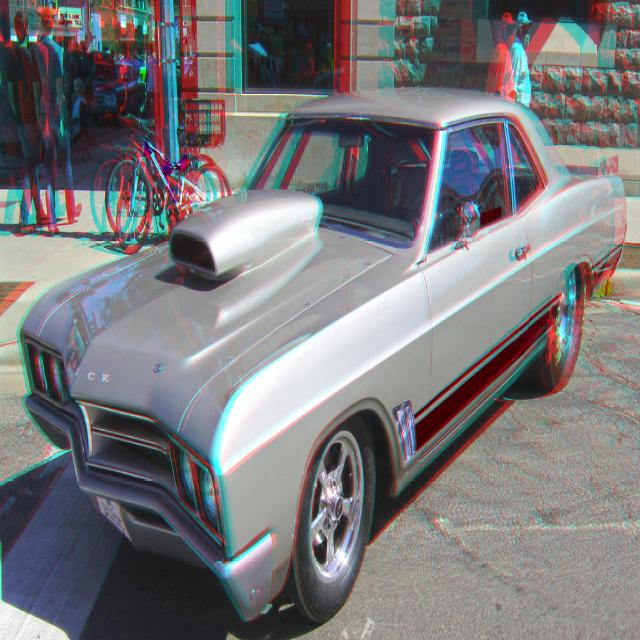car: (17, 83, 625, 622)
